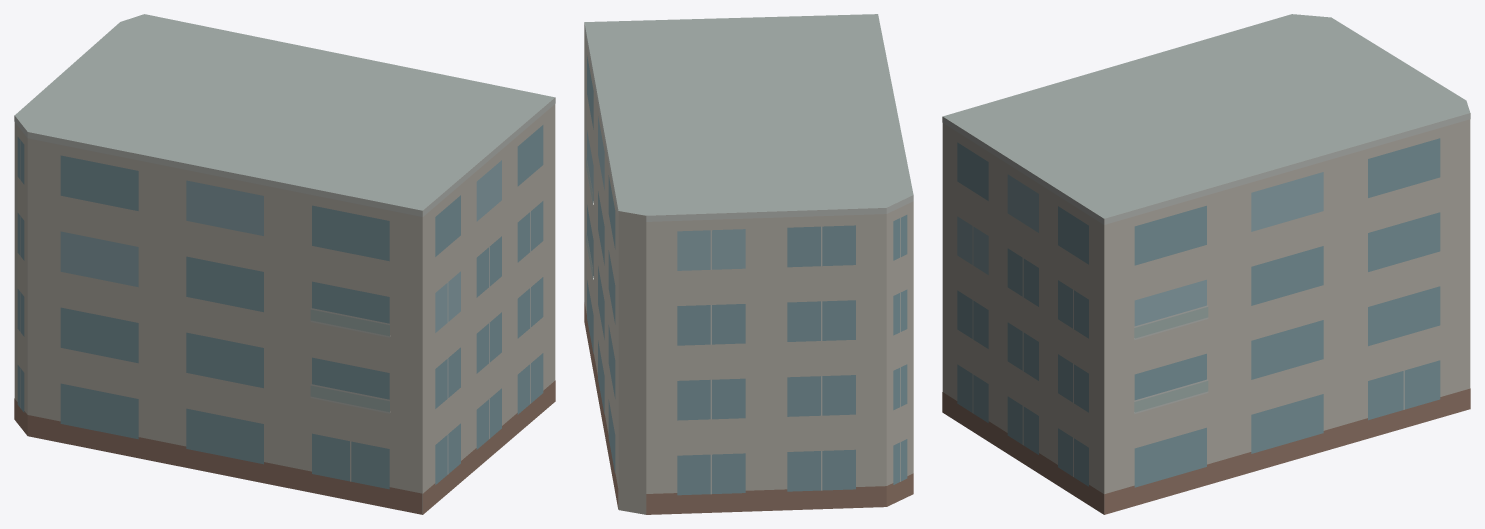
Rendered from survey-upis-32930676.glb.
3 renders of one model, left to right at view 1: azimuth 30°, elevation 25°; view 2: azimuth 150°, elevation 25°; view 3: azimuth 270°, elevation 25°, orthographic. The views are drawn at different scales.
Parts seen in each view (by area): view 1: survey-upis-32930676.tmp; view 2: survey-upis-32930676.tmp; view 3: survey-upis-32930676.tmp.
Boxes of the visible parts, left/top/right/bottom form: survey-upis-32930676.tmp: left=14, top=14, right=555, bottom=514; survey-upis-32930676.tmp: left=584, top=14, right=913, bottom=514; survey-upis-32930676.tmp: left=942, top=14, right=1470, bottom=514.
Size of the model in its own units: 17.37 by 11.7 by 18.91.
